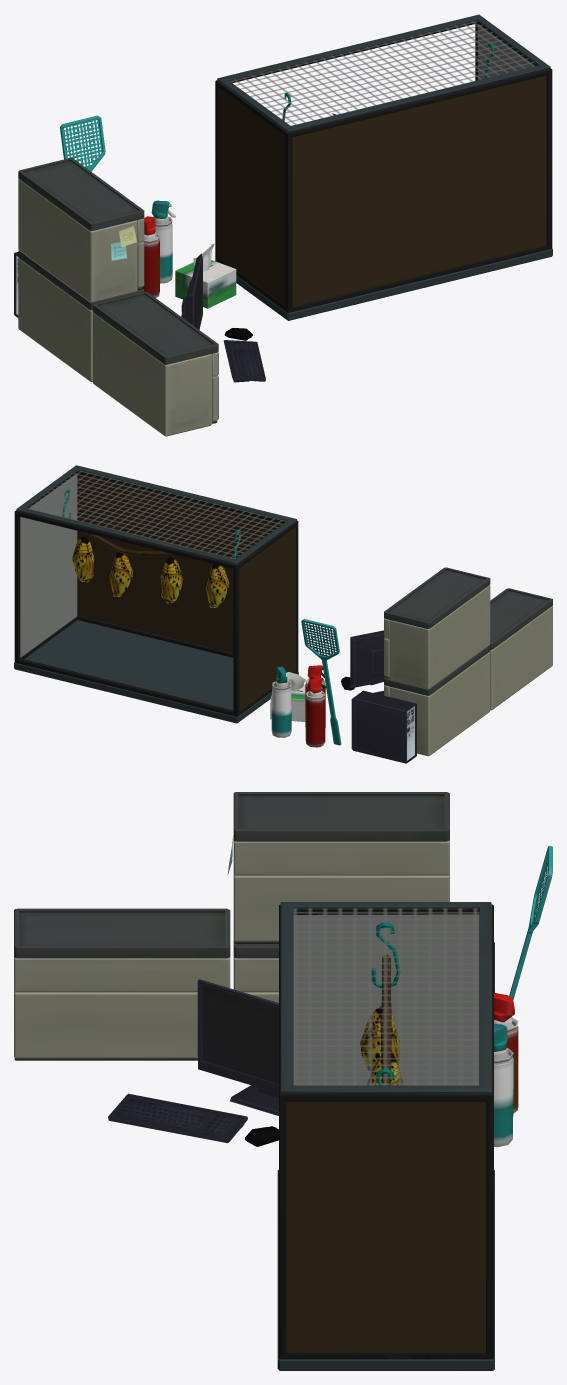
The model's file is terrarium.glb.
3 views of the same model, one above another, from view 1: azimuth 30°, elevation 25°; view 2: azimuth 150°, elevation 25°; view 3: azimuth 270°, elevation 25° (orthographic). The views are drawn at different scales.
Bounding box in the file's own units: 38.01 × 14.68 × 25.18.
5 materials, 4 textured.
